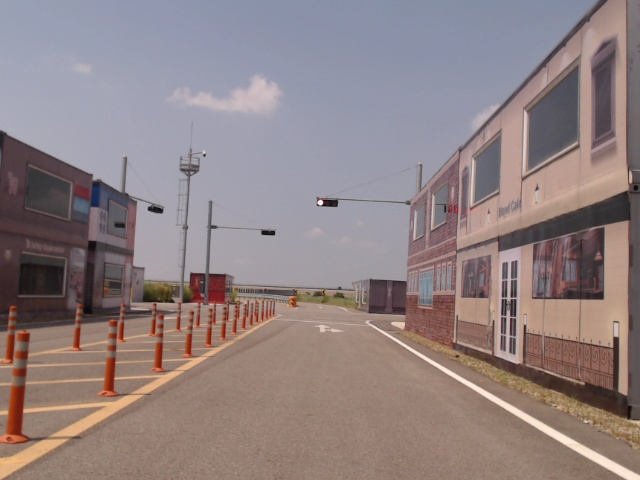red_3: (316, 198, 339, 208)
